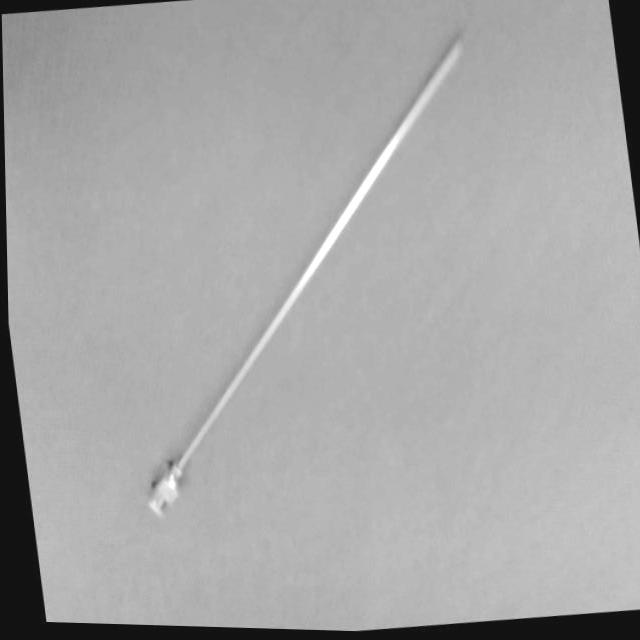Infectious: (146, 460, 182, 517)
Pathological: (3, 1, 639, 632)
Sharps: (145, 33, 466, 518)
